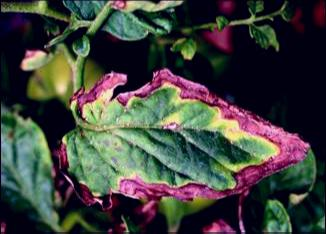Tomato leaf bacterial spot: (60, 66, 312, 212)
